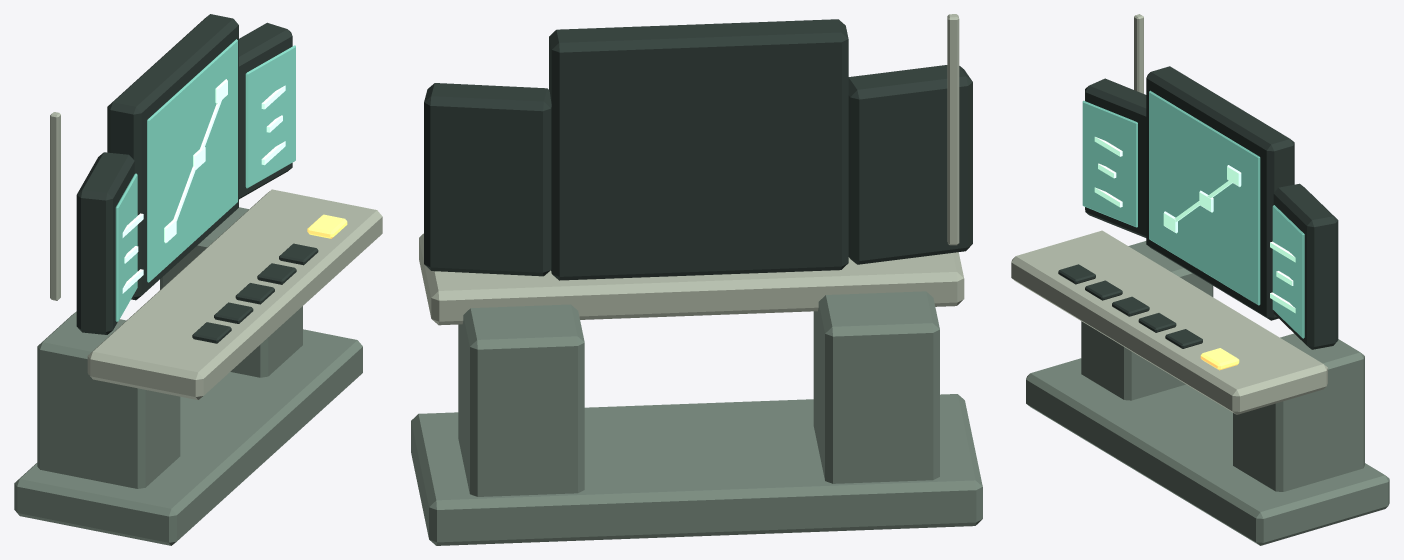
The model's file is command_center.glb.
3 views of the same model, side by side, from view 1: azimuth 30°, elevation 25°; view 2: azimuth 150°, elevation 25°; view 3: azimuth 270°, elevation 25° (orthographic). The views are drawn at different scales.
Parts seen in each view (by area): view 1: Operator desk, Raised equipment plinth, Cabinet pedestal, Main luminous screen, Central display enclosure, Wing display, Wing screen.001, Cabinet pedestal.001, Wing display.001, Wing screen, Antenna, Confirm key (+5 smaller); view 2: Central display enclosure, Raised equipment plinth, Wing display.001, Cabinet pedestal.001, Cabinet pedestal, Wing display, Operator desk, Antenna; view 3: Raised equipment plinth, Operator desk, Main luminous screen, Cabinet pedestal.001, Central display enclosure, Wing display.001, Wing screen, Cabinet pedestal, Wing display, Wing screen.001, Antenna, Confirm key (+5 smaller).
Boxes of the visible parts, bbox=[...] form: Operator desk: bbox=[87, 189, 382, 399]; Raised equipment plinth: bbox=[14, 329, 362, 545]; Cabinet pedestal: bbox=[37, 311, 180, 488]; Main luminous screen: bbox=[147, 39, 237, 282]; Central display enclosure: bbox=[107, 14, 238, 300]; Wing display: bbox=[76, 152, 134, 334]; Wing screen.001: bbox=[245, 45, 295, 188]; Cabinet pedestal.001: bbox=[160, 207, 302, 377]; Wing display.001: bbox=[239, 22, 292, 199]; Wing screen: bbox=[115, 173, 137, 321]; Antenna: bbox=[50, 112, 60, 300]; Confirm key: bbox=[307, 214, 347, 238]; Central display enclosure: bbox=[549, 19, 848, 280]; Raised equipment plinth: bbox=[411, 394, 982, 545]; Wing display.001: bbox=[424, 83, 551, 276]; Cabinet pedestal.001: bbox=[458, 304, 584, 496]; Cabinet pedestal: bbox=[813, 291, 939, 483]; Wing display: bbox=[848, 65, 972, 264]; Operator desk: bbox=[419, 233, 964, 325]; Antenna: bbox=[947, 14, 959, 245]; Raised equipment plinth: bbox=[1026, 358, 1389, 545]; Operator desk: bbox=[1011, 230, 1327, 414]; Main luminous screen: bbox=[1149, 90, 1260, 305]; Cabinet pedestal.001: bbox=[1233, 333, 1364, 491]; Central display enclosure: bbox=[1146, 66, 1294, 320]; Wing display.001: bbox=[1273, 183, 1338, 349]; Wing screen: bbox=[1082, 100, 1137, 227]; Cabinet pedestal: bbox=[1081, 241, 1213, 400]; Wing display: bbox=[1085, 78, 1146, 237]; Wing screen.001: bbox=[1272, 205, 1304, 338]; Antenna: bbox=[1134, 14, 1143, 93]; Confirm key: bbox=[1200, 348, 1239, 370].
Size of the model in its own units: 2.78 by 2.6 by 2.43.
